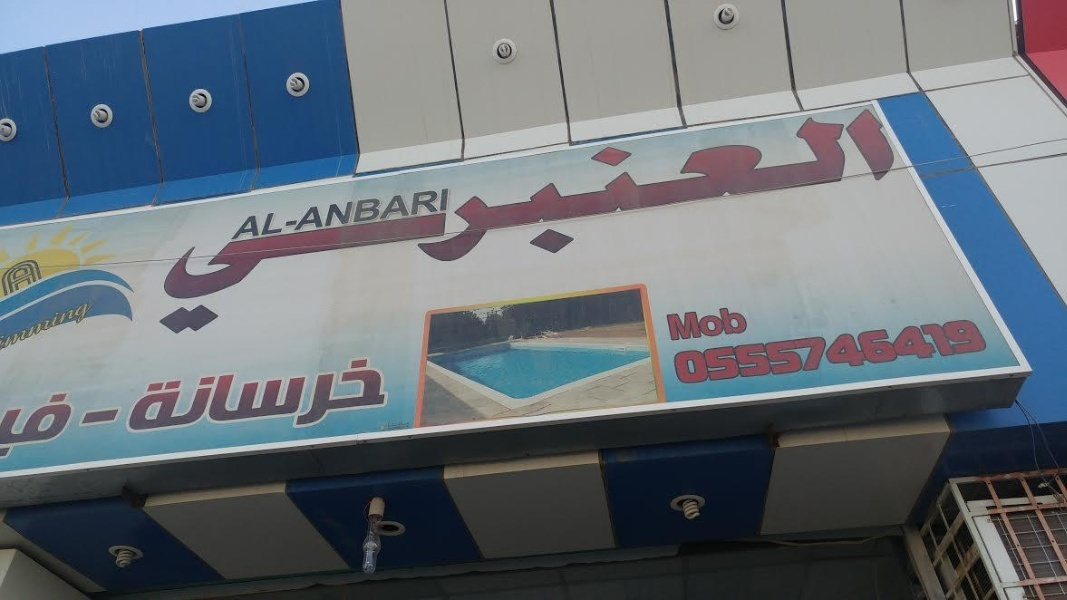text: (897, 102, 913, 343), (193, 102, 208, 343), (209, 102, 224, 343), (225, 102, 240, 343), (241, 102, 256, 343), (257, 102, 272, 343), (273, 102, 288, 343), (289, 102, 304, 343), (305, 102, 320, 343), (321, 102, 336, 343), (337, 102, 352, 343), (353, 102, 368, 343), (369, 102, 384, 343), (385, 102, 400, 343), (401, 102, 416, 343), (417, 102, 432, 343), (433, 102, 448, 343), (449, 102, 464, 343), (465, 102, 480, 343), (481, 102, 496, 343), (497, 102, 512, 343), (513, 102, 528, 343), (529, 102, 544, 343), (545, 102, 560, 343), (561, 102, 576, 343), (577, 102, 592, 343), (593, 102, 608, 343), (609, 102, 624, 343), (625, 102, 640, 343), (641, 102, 656, 343), (657, 102, 672, 343), (673, 102, 688, 343), (689, 102, 704, 343), (705, 102, 720, 343), (721, 102, 736, 343), (737, 102, 752, 343), (753, 102, 768, 343), (769, 102, 784, 343), (785, 102, 800, 343), (801, 102, 816, 343), (817, 102, 832, 343), (833, 102, 848, 343), (849, 102, 864, 343), (865, 102, 880, 343), (881, 102, 896, 343), (181, 102, 192, 343), (145, 354, 160, 442), (161, 354, 176, 442), (177, 354, 192, 442), (193, 354, 208, 442), (209, 354, 224, 442), (225, 354, 240, 442), (241, 354, 256, 442), (257, 354, 272, 442), (273, 354, 288, 442), (289, 354, 304, 442), (305, 354, 320, 442), (321, 354, 336, 442), (337, 354, 352, 442), (353, 354, 368, 442), (369, 354, 384, 442), (1, 393, 16, 463), (17, 393, 32, 463), (33, 393, 48, 463), (49, 393, 64, 463), (673, 317, 688, 385), (689, 317, 704, 385), (705, 317, 720, 385), (721, 317, 736, 385), (737, 317, 752, 385), (753, 317, 768, 385), (769, 317, 784, 385), (785, 317, 800, 385), (801, 317, 816, 385), (817, 317, 832, 385), (833, 317, 848, 385), (849, 317, 864, 385), (865, 317, 880, 385), (881, 317, 896, 385), (897, 317, 912, 385), (913, 317, 928, 385), (929, 317, 944, 385), (945, 317, 960, 385), (961, 317, 976, 385), (977, 317, 992, 385), (65, 393, 77, 463), (17, 298, 32, 354), (33, 298, 48, 354), (49, 298, 64, 354), (65, 298, 80, 354), (241, 188, 256, 242), (257, 188, 272, 242), (273, 188, 288, 242), (289, 188, 304, 242), (305, 188, 320, 242), (321, 188, 336, 242), (337, 188, 352, 242), (353, 188, 368, 242), (369, 188, 384, 242), (385, 188, 400, 242), (401, 188, 416, 242), (417, 188, 432, 242), (433, 188, 448, 242), (2, 298, 16, 354), (81, 298, 95, 354), (1, 256, 16, 301), (17, 256, 32, 301), (673, 305, 688, 342), (689, 305, 704, 342), (705, 305, 720, 342), (721, 305, 736, 342), (737, 305, 751, 342), (33, 256, 43, 301), (139, 354, 144, 442), (97, 407, 112, 431), (82, 407, 96, 431), (663, 305, 672, 342), (385, 354, 388, 442), (113, 407, 121, 431), (993, 317, 994, 385), (449, 188, 450, 242)
